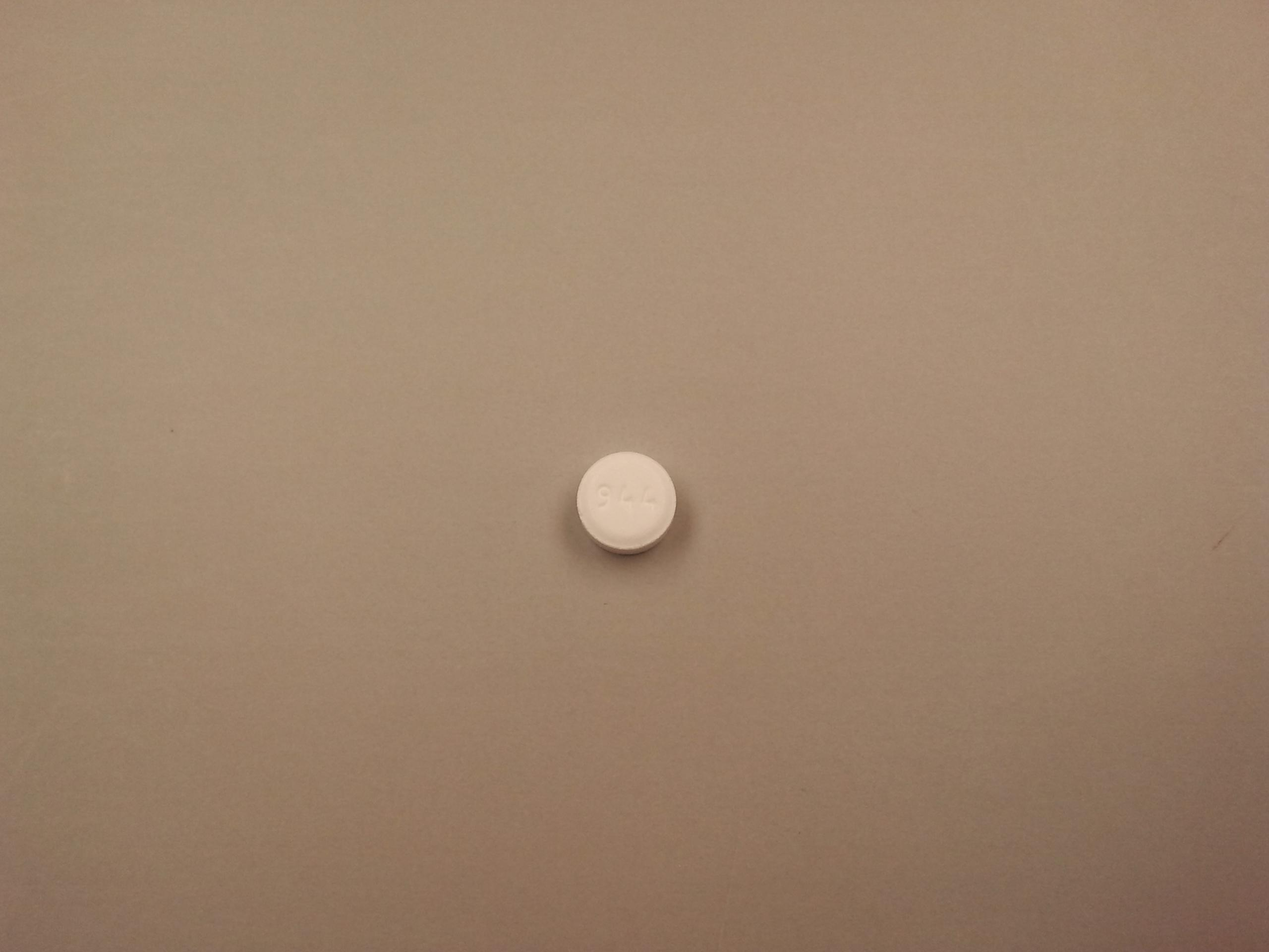Pill: (588, 441, 737, 527)
